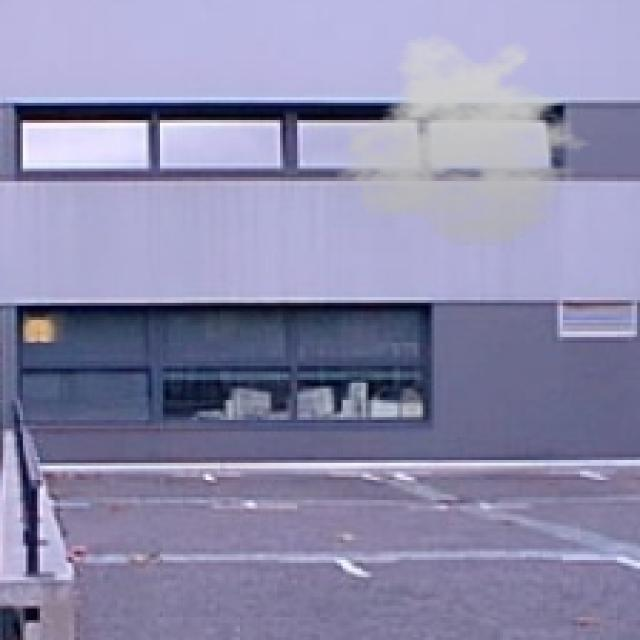Smoke: (334, 34, 606, 249)
